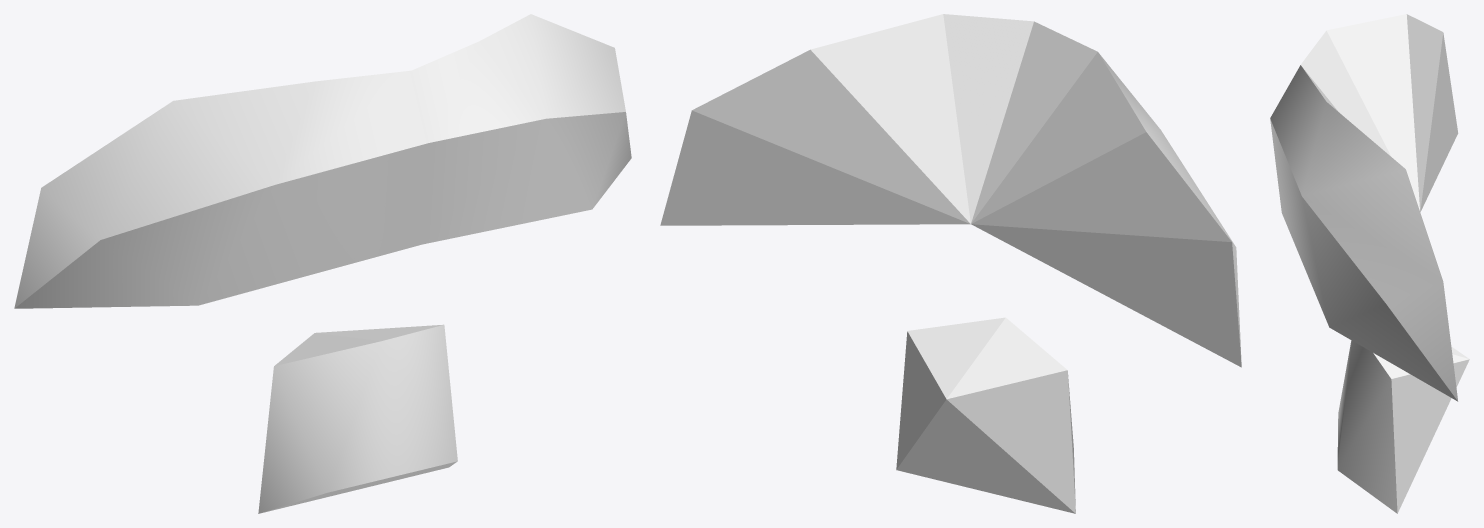
Rendered from Male_Mustache_02_v4.fbx.
3 views of the same model, side by side, from view 1: azimuth 30°, elevation 25°; view 2: azimuth 150°, elevation 25°; view 3: azimuth 270°, elevation 25° (orthographic). The views are drawn at different scales.
Parts seen in each view (by area): view 1: Male_Mustache_02_v4; view 2: Male_Mustache_02_v4; view 3: Male_Mustache_02_v4.
Boxes of the visible parts, x1=… form: Male_Mustache_02_v4: x1=14, y1=14, x2=631, y2=513; Male_Mustache_02_v4: x1=660, y1=14, x2=1241, y2=513; Male_Mustache_02_v4: x1=1270, y1=14, x2=1469, y2=513.
Size of the model in its own units: 22.73 by 16.15 by 7.14.
